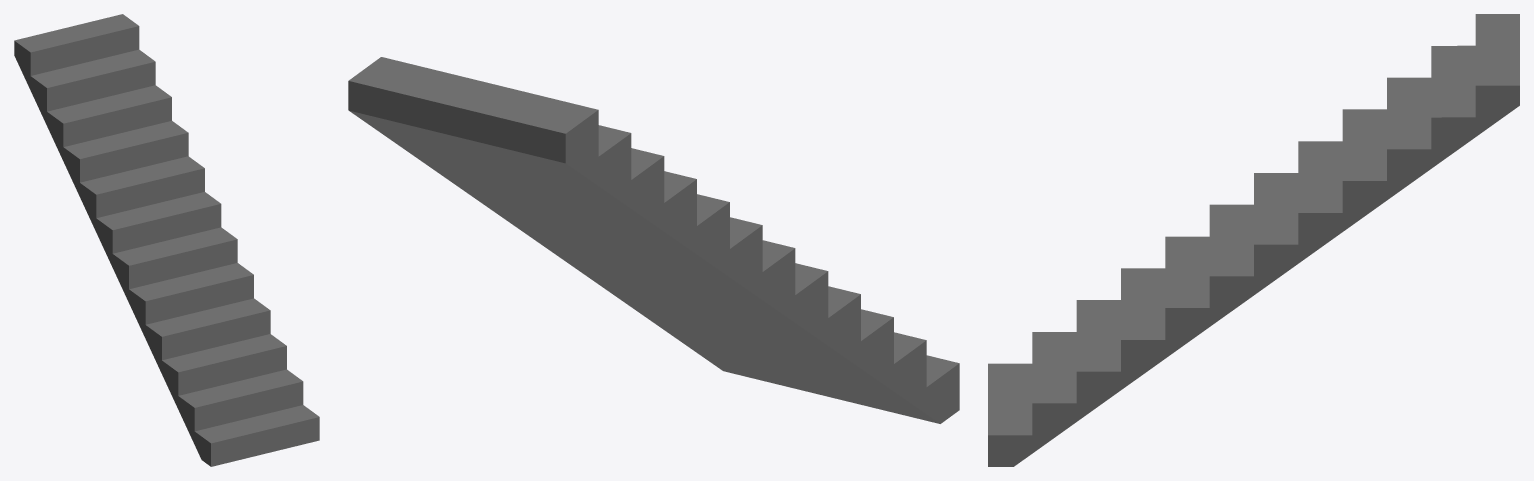
File: Stairs_050.glb
3 renders of one model, left to right at view 1: azimuth 30°, elevation 25°; view 2: azimuth 150°, elevation 25°; view 3: azimuth 270°, elevation 25°, orthographic. The views are drawn at different scales.
Parts seen in each view (by area): view 1: Stairs_050; view 2: Stairs_050; view 3: Stairs_050.
Boxes of the visible parts, bbox=[...] form: Stairs_050: bbox=[14, 14, 319, 466]; Stairs_050: bbox=[348, 57, 959, 423]; Stairs_050: bbox=[988, 14, 1519, 466].
Size of the model in its own units: 1.62 by 4.02 by 5.08.
1 material, 1 textured.
